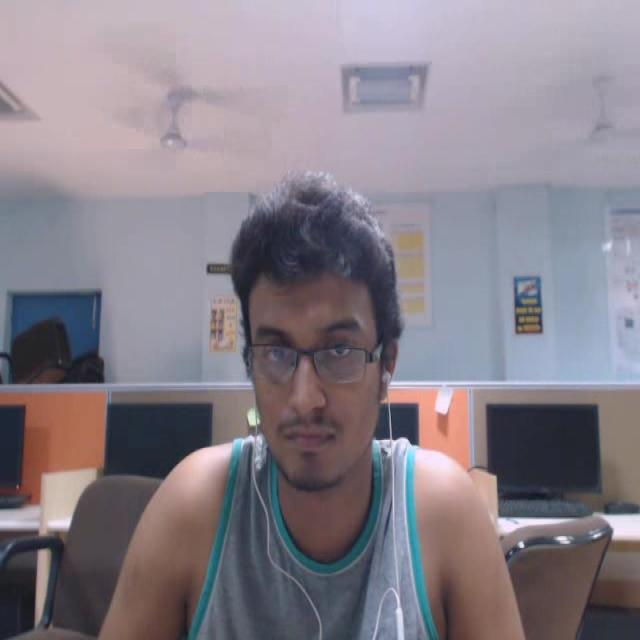Engaged: (201, 164, 442, 521)
